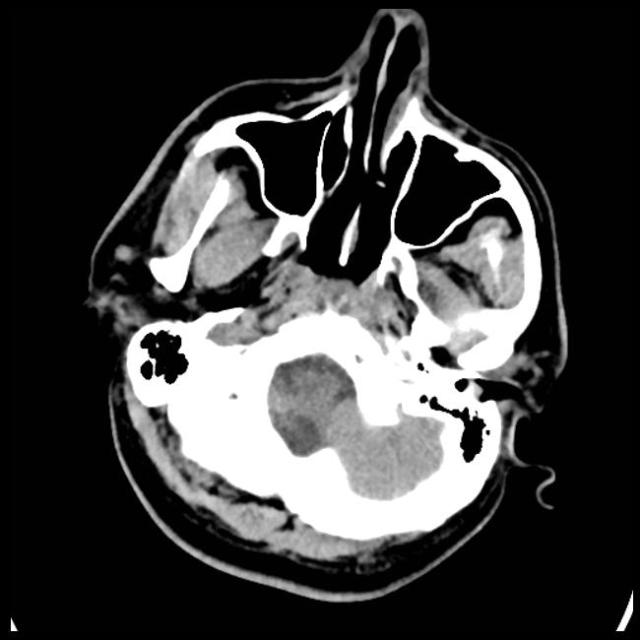lesion: (85, 8, 572, 602)
